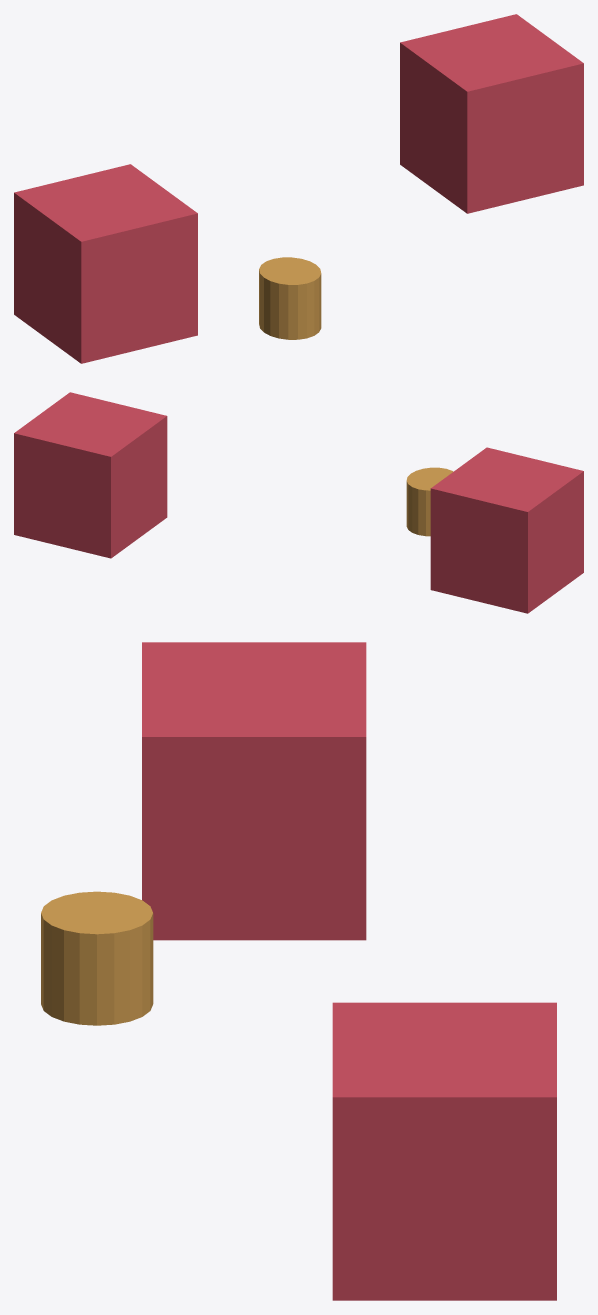
Rendered from arnoldgroupit.glb.
3 renders of one model, top to bottom at view 1: azimuth 30°, elevation 25°; view 2: azimuth 150°, elevation 25°; view 3: azimuth 270°, elevation 25°, orthographic. The views are drawn at different scales.
Parts seen in each view (by area): view 1: Mesh_Mesh_head_geo.001_lambert2SG.001; view 2: Mesh_Mesh_head_geo.001_lambert2SG.001; view 3: Mesh_Mesh_head_geo.001_lambert2SG.001.
Boxes of the visible parts, x1,y1,x2,y2 form: Mesh_Mesh_head_geo.001_lambert2SG.001: (14,14,583,363); Mesh_Mesh_head_geo.001_lambert2SG.001: (14,392,583,613); Mesh_Mesh_head_geo.001_lambert2SG.001: (41,642,556,1300).
Size of the model in its own units: 96 by 20 by 46.
